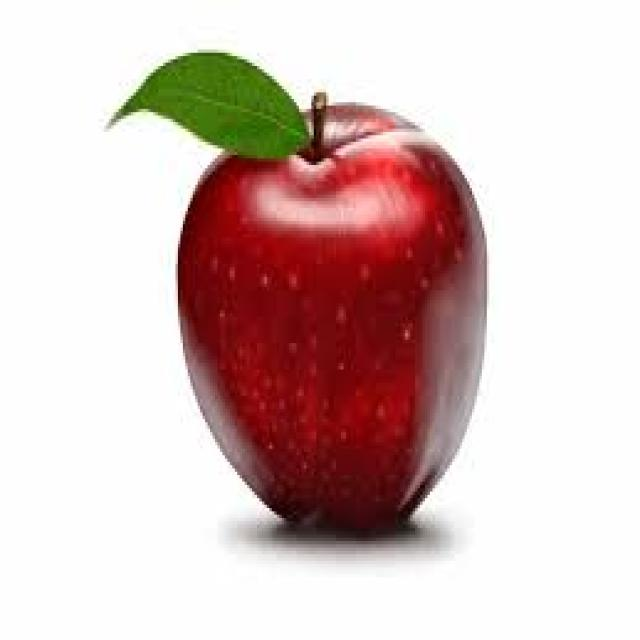apple: (158, 92, 502, 556)
